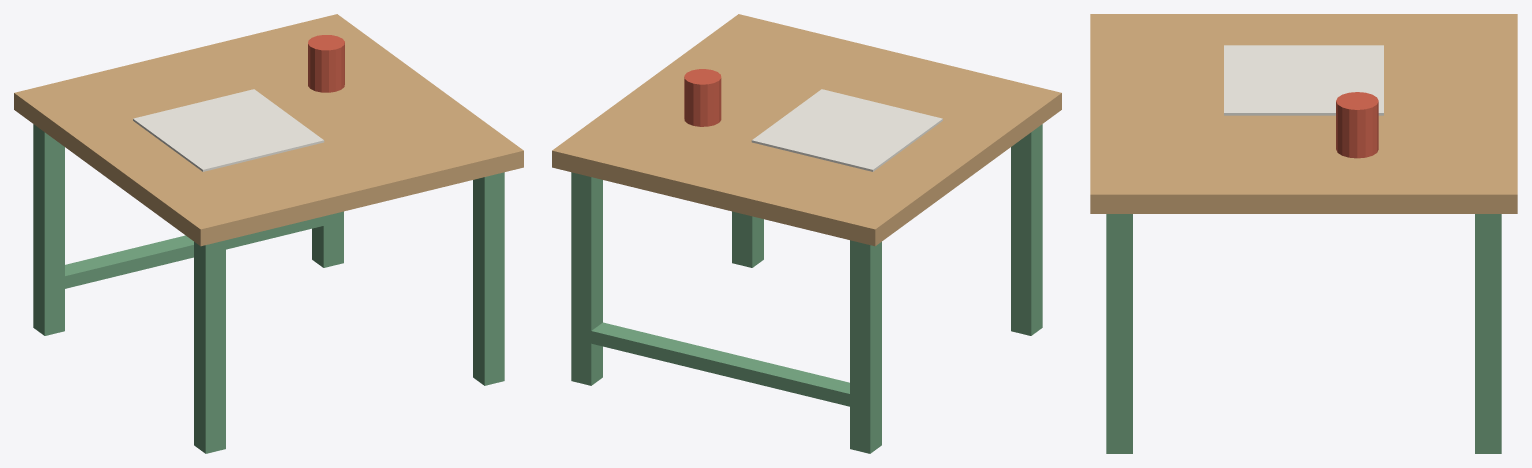
Rendered from small_desk.glb.
The picture shows the model from 3 angles, left to right: view 1: azimuth 30°, elevation 25°; view 2: azimuth 150°, elevation 25°; view 3: azimuth 270°, elevation 25°; orthographic projection. The views are drawn at different scales.
Visible parts, largest first — view 1: small_desk_Body; view 2: small_desk_Body; view 3: small_desk_Body.
Part boxes in pixels (x1,y1,x2,y2): small_desk_Body: (14,14,523,453); small_desk_Body: (552,14,1061,453); small_desk_Body: (1090,14,1517,453).
Bounding box in the file's own units: 0.8 × 0.65 × 0.8.
